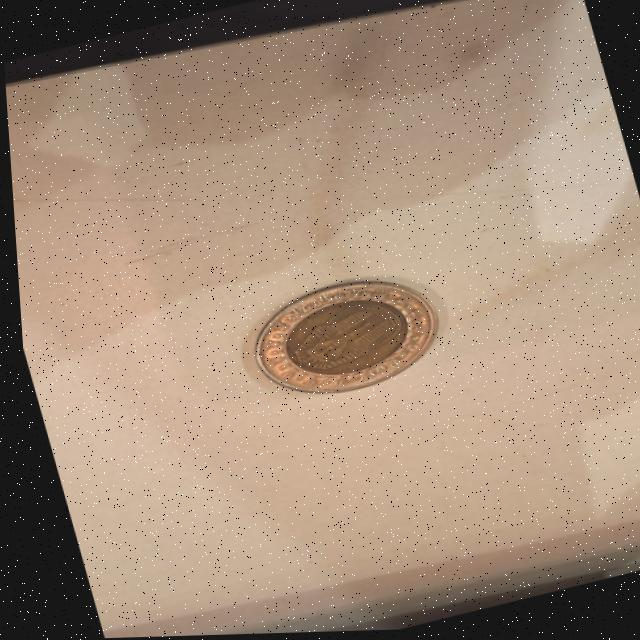One Pound: (195, 242, 460, 435)
